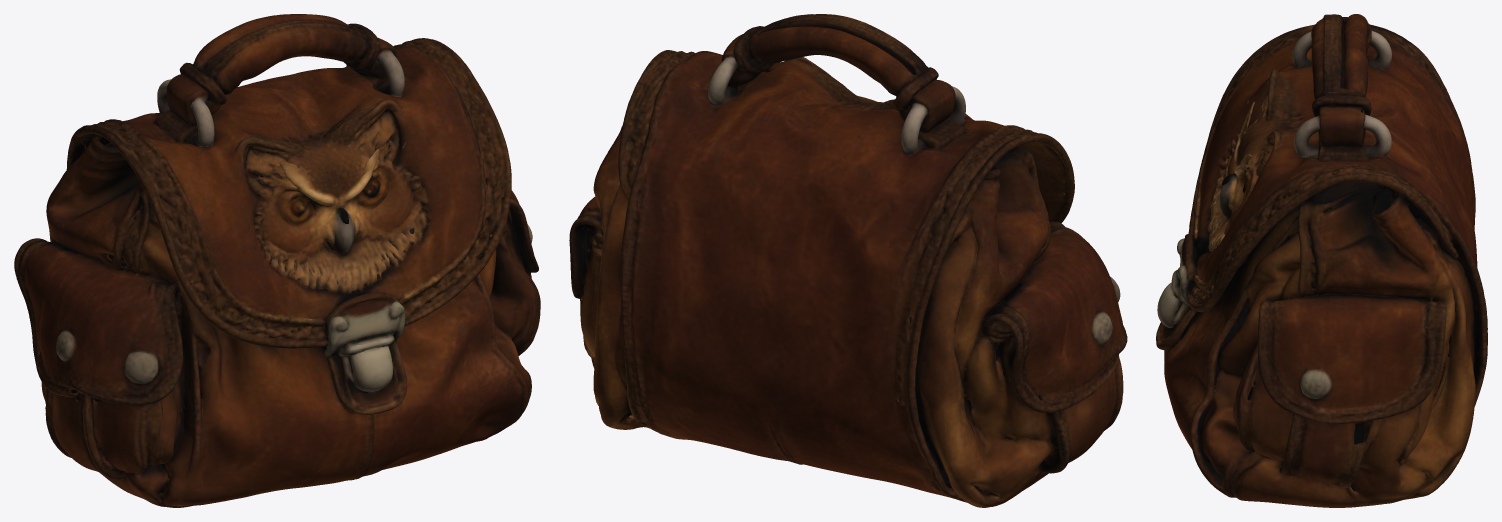
The model's file is generation_satchel_1.glb.
3 views of the same model, side by side, from view 1: azimuth 30°, elevation 25°; view 2: azimuth 150°, elevation 25°; view 3: azimuth 270°, elevation 25° (orthographic). The views are drawn at different scales.
Parts seen in each view (by area): view 1: geometry_0; view 2: geometry_0; view 3: geometry_0.
Part boxes in pixels (x1=…): geometry_0: x1=14, y1=14, x2=540, y2=507; geometry_0: x1=569, y1=14, x2=1127, y2=507; geometry_0: x1=1156, y1=14, x2=1487, y2=507.
Size of the model in its own units: 1 by 0.8521 by 0.628.
Materials: 1 (1 with a texture image).
